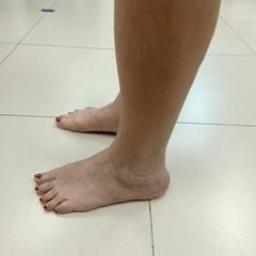Lateral View -Left Foot-: (14, 129, 204, 233)
